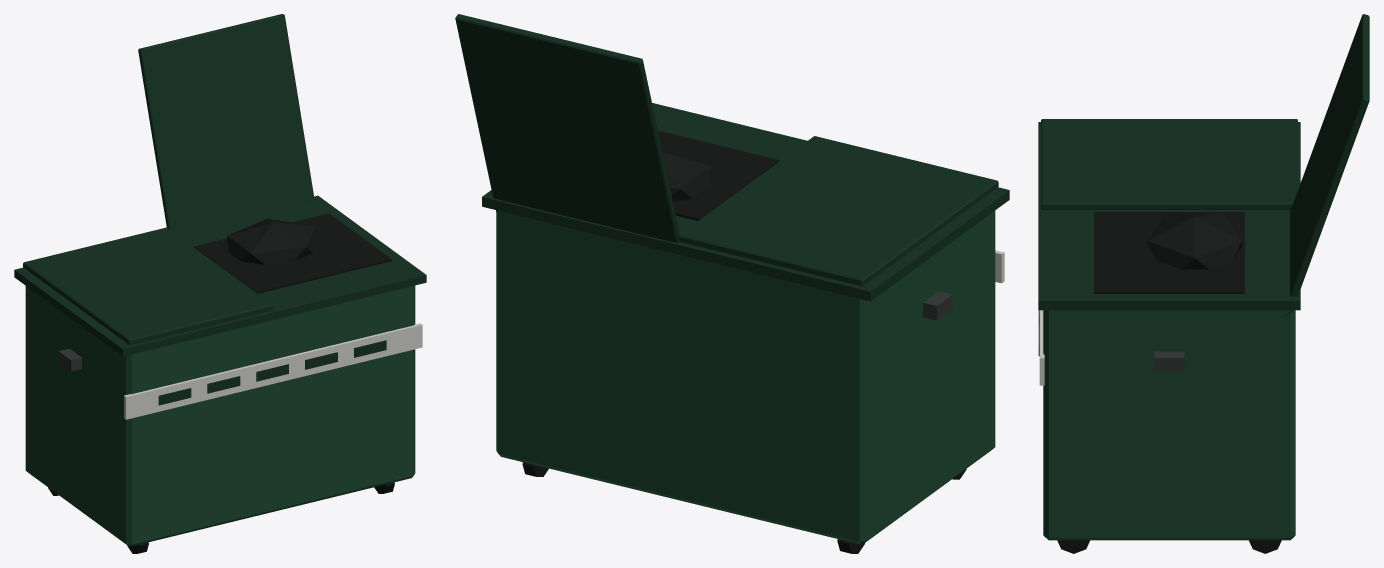
The model's file is thung_rac_lon.glb.
3 renders of one model, left to right at view 1: azimuth 30°, elevation 25°; view 2: azimuth 150°, elevation 25°; view 3: azimuth 270°, elevation 25°, orthographic. The views are drawn at different scales.
Parts seen in each view (by area): view 1: thung_rac_lon; view 2: thung_rac_lon; view 3: thung_rac_lon.
Boxes of the visible parts, x1,y1,x2,y2 form: thung_rac_lon: (14,14,426,553); thung_rac_lon: (455,14,1009,553); thung_rac_lon: (1038,14,1369,553).
Size of the model in its own units: 1.72 by 2.04 by 1.31.
